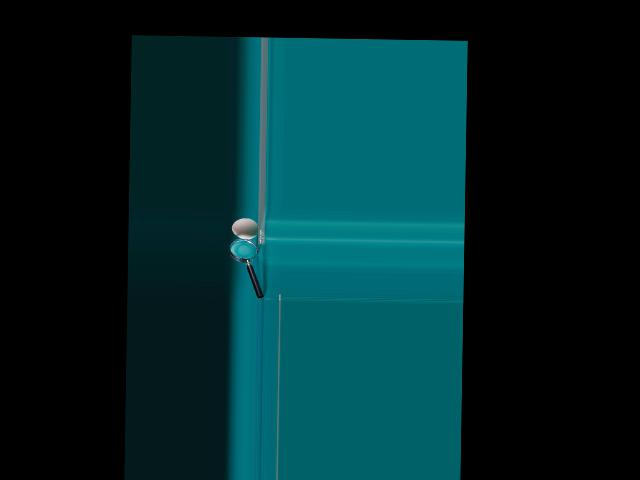egg: (231, 217, 259, 239)
